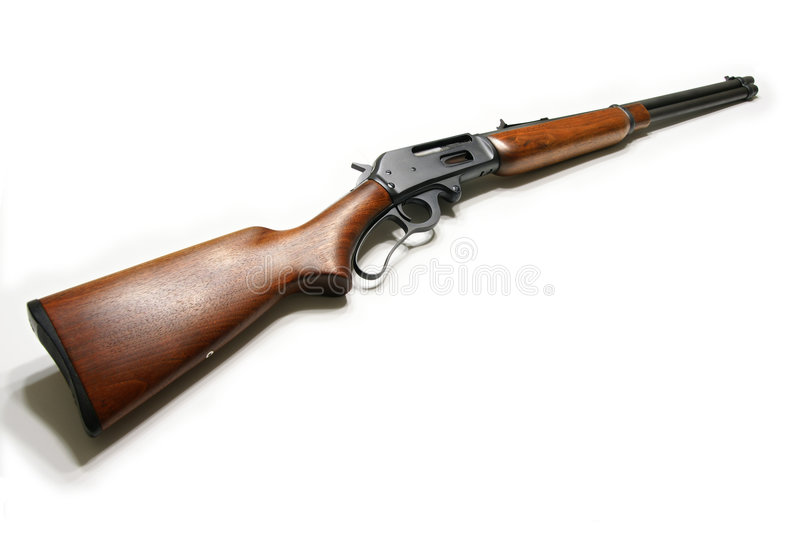rifle: (40, 75, 763, 436)
